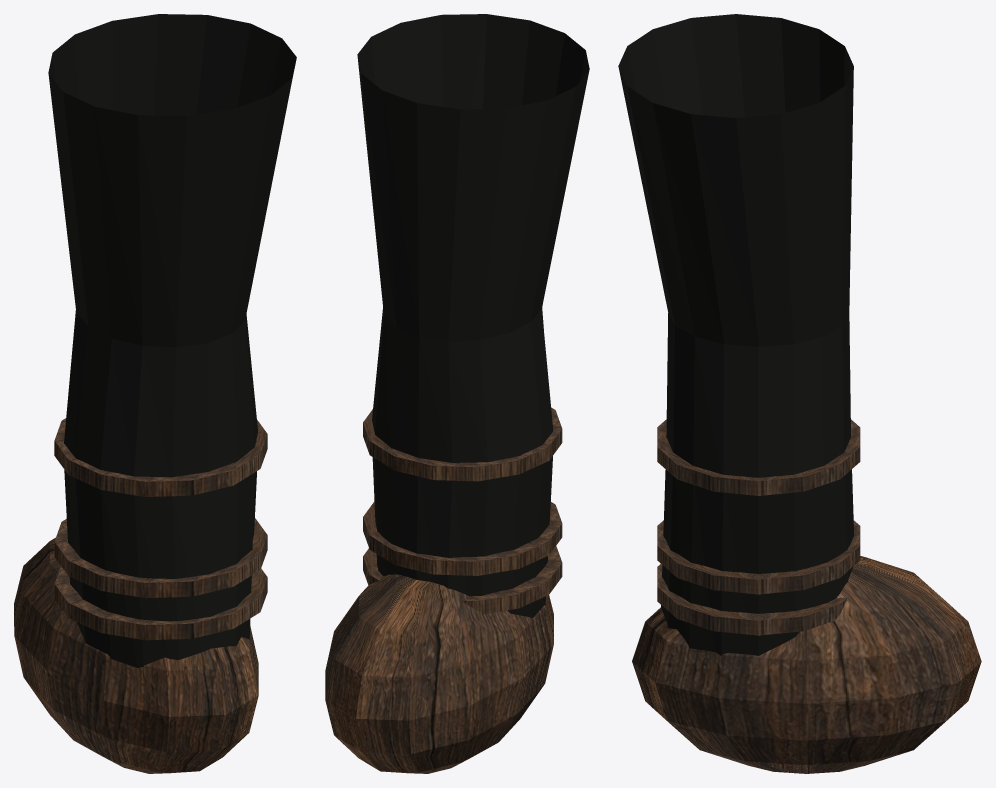
File: boot_1.obj
The picture shows the model from 3 angles, left to right: view 1: azimuth 30°, elevation 25°; view 2: azimuth 150°, elevation 25°; view 3: azimuth 270°, elevation 25°; orthographic projection. The views are drawn at different scales.
Size of the model in its own units: 0.272 by 0.852 by 0.401.
Materials: 2 (1 with a texture image).
